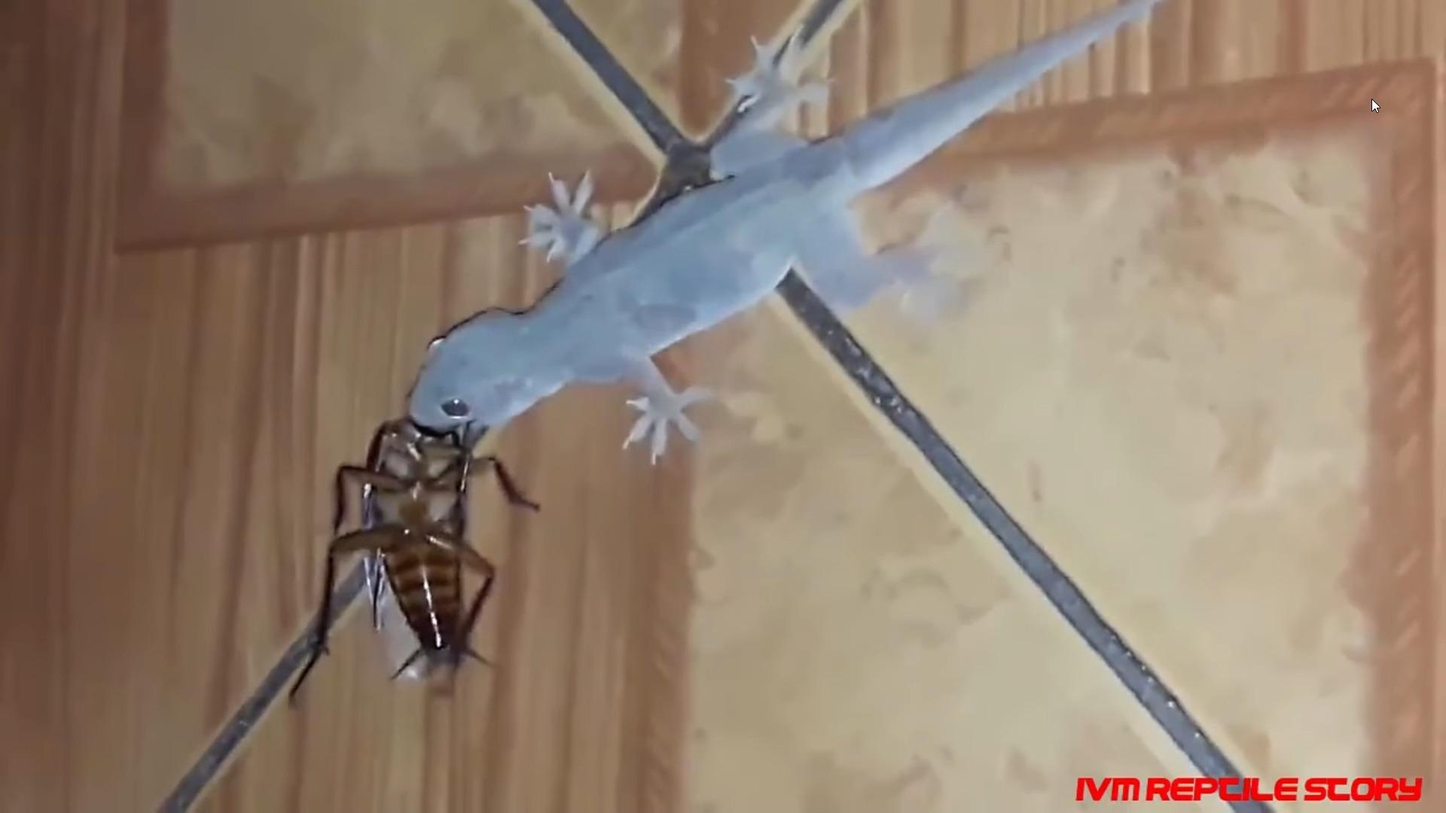cockroach: (306, 438, 553, 692)
lizard: (405, 36, 948, 458)
